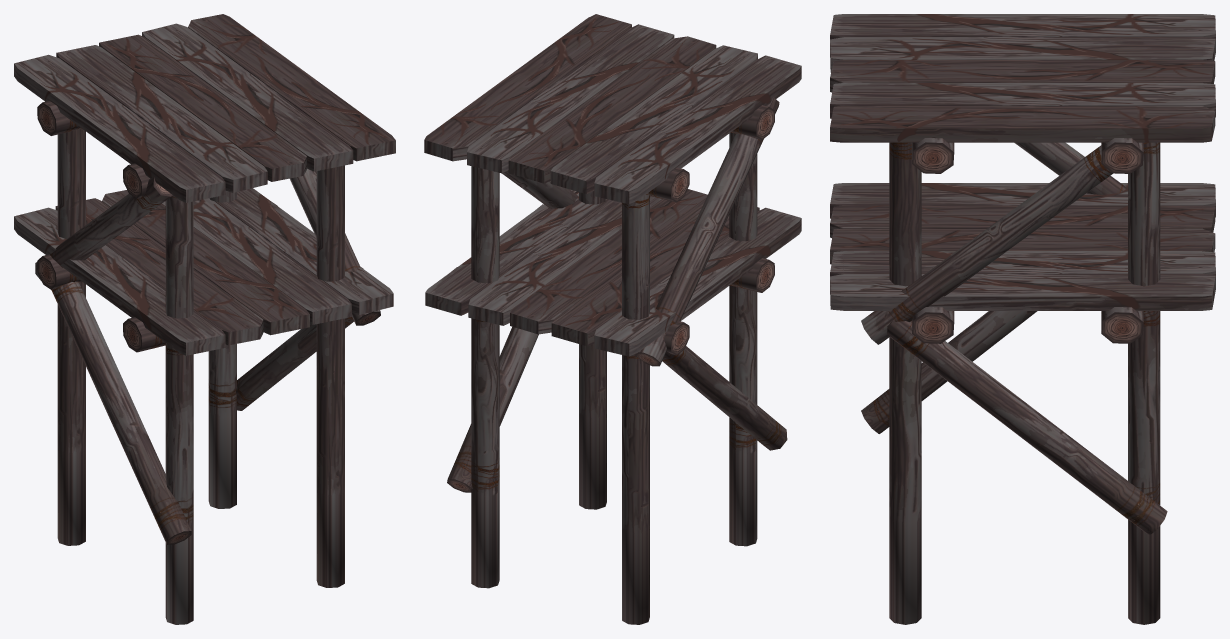
File: square long.fbx
The picture shows the model from 3 angles, left to right: view 1: azimuth 30°, elevation 25°; view 2: azimuth 150°, elevation 25°; view 3: azimuth 270°, elevation 25°; orthographic projection. The views are drawn at different scales.
Visible parts, largest first — view 1: Scaffolding_rectangle1, Scaffolding_rectangle1.001, Scaffolding_rectangle1.002; view 2: Scaffolding_rectangle1, Scaffolding_rectangle1.001, Scaffolding_rectangle1.002; view 3: Scaffolding_rectangle1, Scaffolding_rectangle1.001, Scaffolding_rectangle1.002.
Boxes of the visible parts, left/top/right/bottom form: Scaffolding_rectangle1: left=35, top=100, right=380, bottom=624; Scaffolding_rectangle1.001: left=14, top=14, right=395, bottom=202; Scaffolding_rectangle1.002: left=14, top=188, right=393, bottom=355; Scaffolding_rectangle1: left=447, top=97, right=787, bottom=624; Scaffolding_rectangle1.001: left=424, top=14, right=801, bottom=204; Scaffolding_rectangle1.002: left=425, top=189, right=801, bottom=356; Scaffolding_rectangle1: left=861, top=138, right=1167, bottom=624; Scaffolding_rectangle1.001: left=830, top=14, right=1215, bottom=142; Scaffolding_rectangle1.002: left=830, top=183, right=1215, bottom=310.
Bounding box in the file's own units: 1347 × 2599 × 1790.
